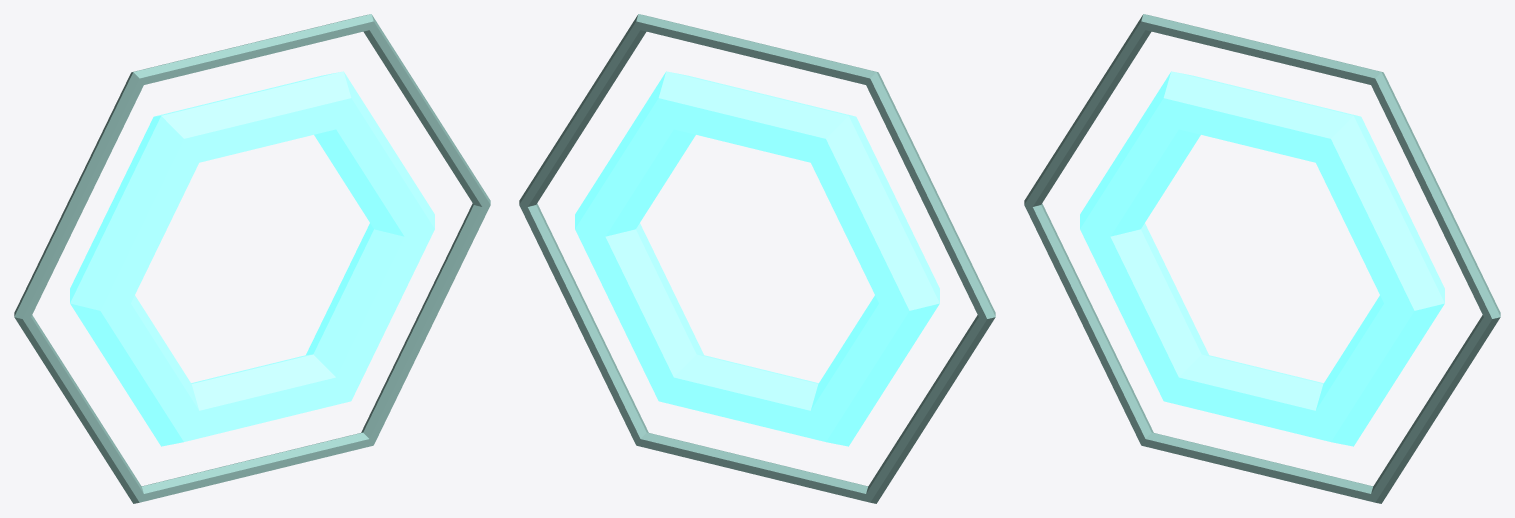
Rendered from node-parts.glb.
3 renders of one model, left to right at view 1: azimuth 30°, elevation 25°; view 2: azimuth 150°, elevation 25°; view 3: azimuth 330°, elevation 25°, orthographic.
Visible parts, largest first — view 1: LMW_Hex_node, LMW_Node_outer_frame; view 2: LMW_Hex_node, LMW_Node_outer_frame; view 3: LMW_Hex_node, LMW_Node_outer_frame.
Boxes of the visible parts, left/top/right/bottom form: LMW_Hex_node: left=70, top=71, right=434, bottom=446; LMW_Node_outer_frame: left=14, top=14, right=490, bottom=503; LMW_Hex_node: left=575, top=71, right=939, bottom=446; LMW_Node_outer_frame: left=519, top=14, right=995, bottom=503; LMW_Hex_node: left=1080, top=71, right=1444, bottom=446; LMW_Node_outer_frame: left=1024, top=14, right=1500, bottom=503.
Size of the model in its own units: 1.41 by 1.22 by 0.1559.
